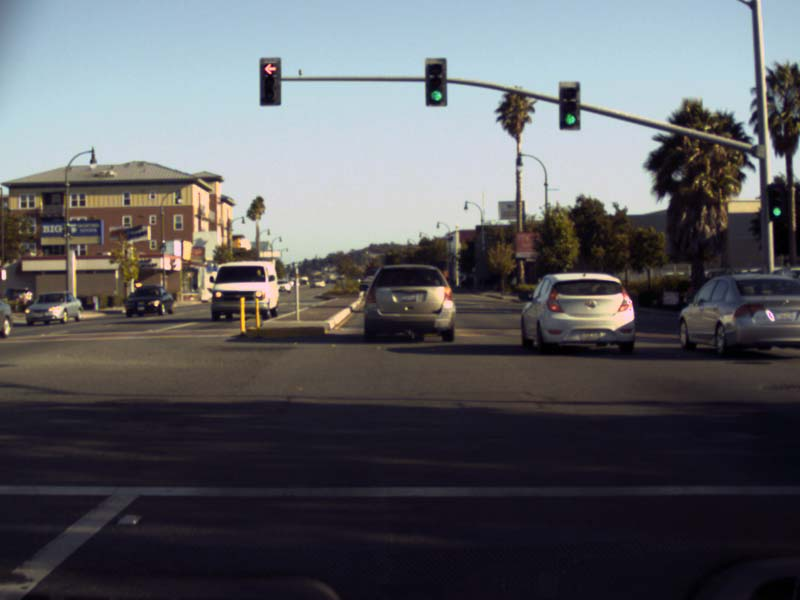Green: (557, 79, 581, 130), (424, 56, 447, 105), (768, 184, 786, 220)
Red: (258, 56, 281, 105)
